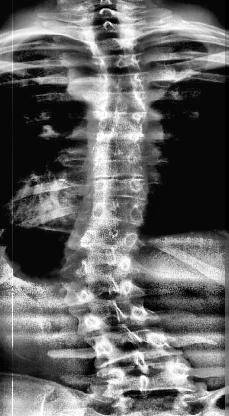Vertebrae: (84, 328, 186, 370), (96, 362, 198, 400), (68, 296, 161, 336), (60, 276, 144, 308), (57, 249, 139, 281), (64, 223, 144, 254), (74, 196, 150, 228), (86, 108, 152, 144), (79, 174, 151, 202), (85, 131, 145, 161), (92, 84, 148, 116), (87, 152, 149, 180), (94, 70, 150, 94), (86, 35, 142, 57), (94, 54, 146, 76)
